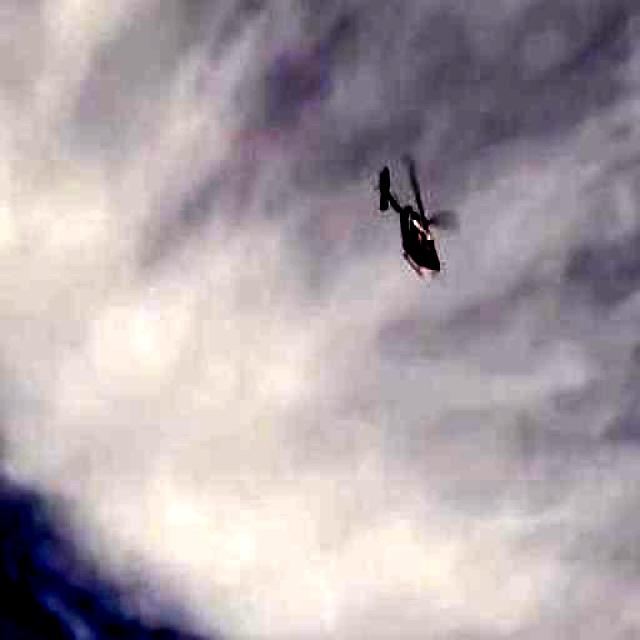drone: (356, 131, 490, 322)
